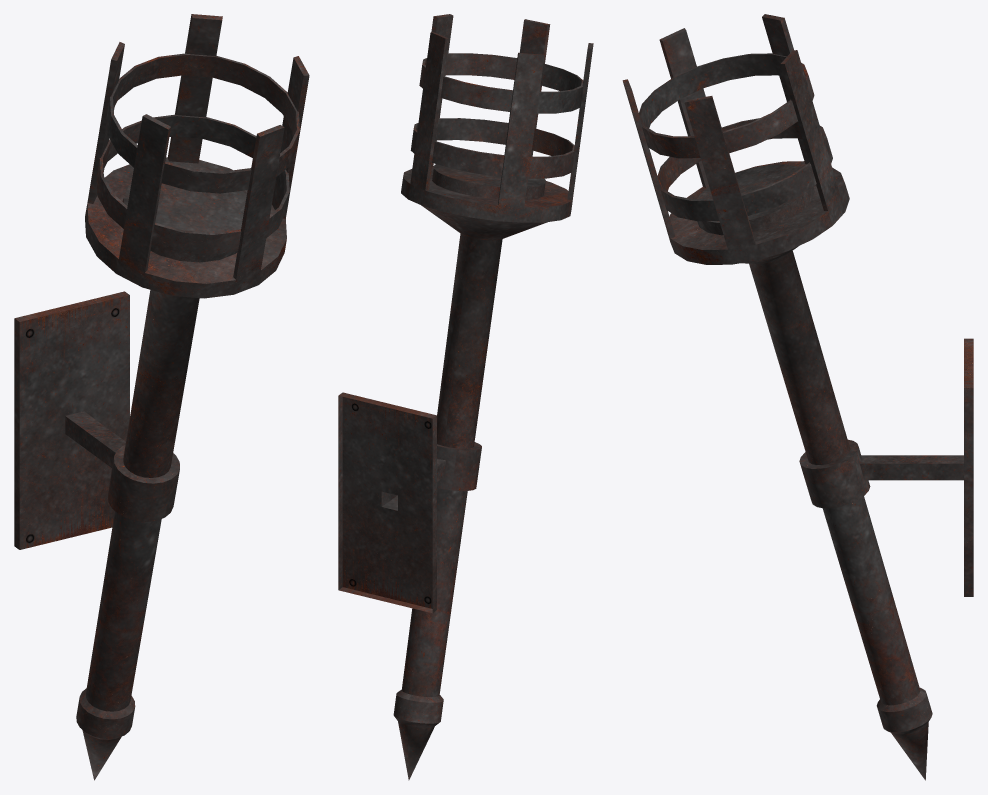
File: Porta Tocha Texturizacao.fbx
3 views of the same model, side by side, from view 1: azimuth 30°, elevation 25°; view 2: azimuth 150°, elevation 25°; view 3: azimuth 270°, elevation 25° (orthographic). The views are drawn at different scales.
Visible parts, largest first — view 1: Porta_Tochas1; view 2: Porta_Tochas1; view 3: Porta_Tochas1.
Boxes of the visible parts, left/top/right/bottom form: Porta_Tochas1: left=14, top=14, right=309, bottom=780; Porta_Tochas1: left=338, top=14, right=593, bottom=780; Porta_Tochas1: left=622, top=14, right=973, bottom=780.
Size of the model in its own units: 8.04 by 35.46 by 15.18.
Materials: 1 (1 with a texture image).
